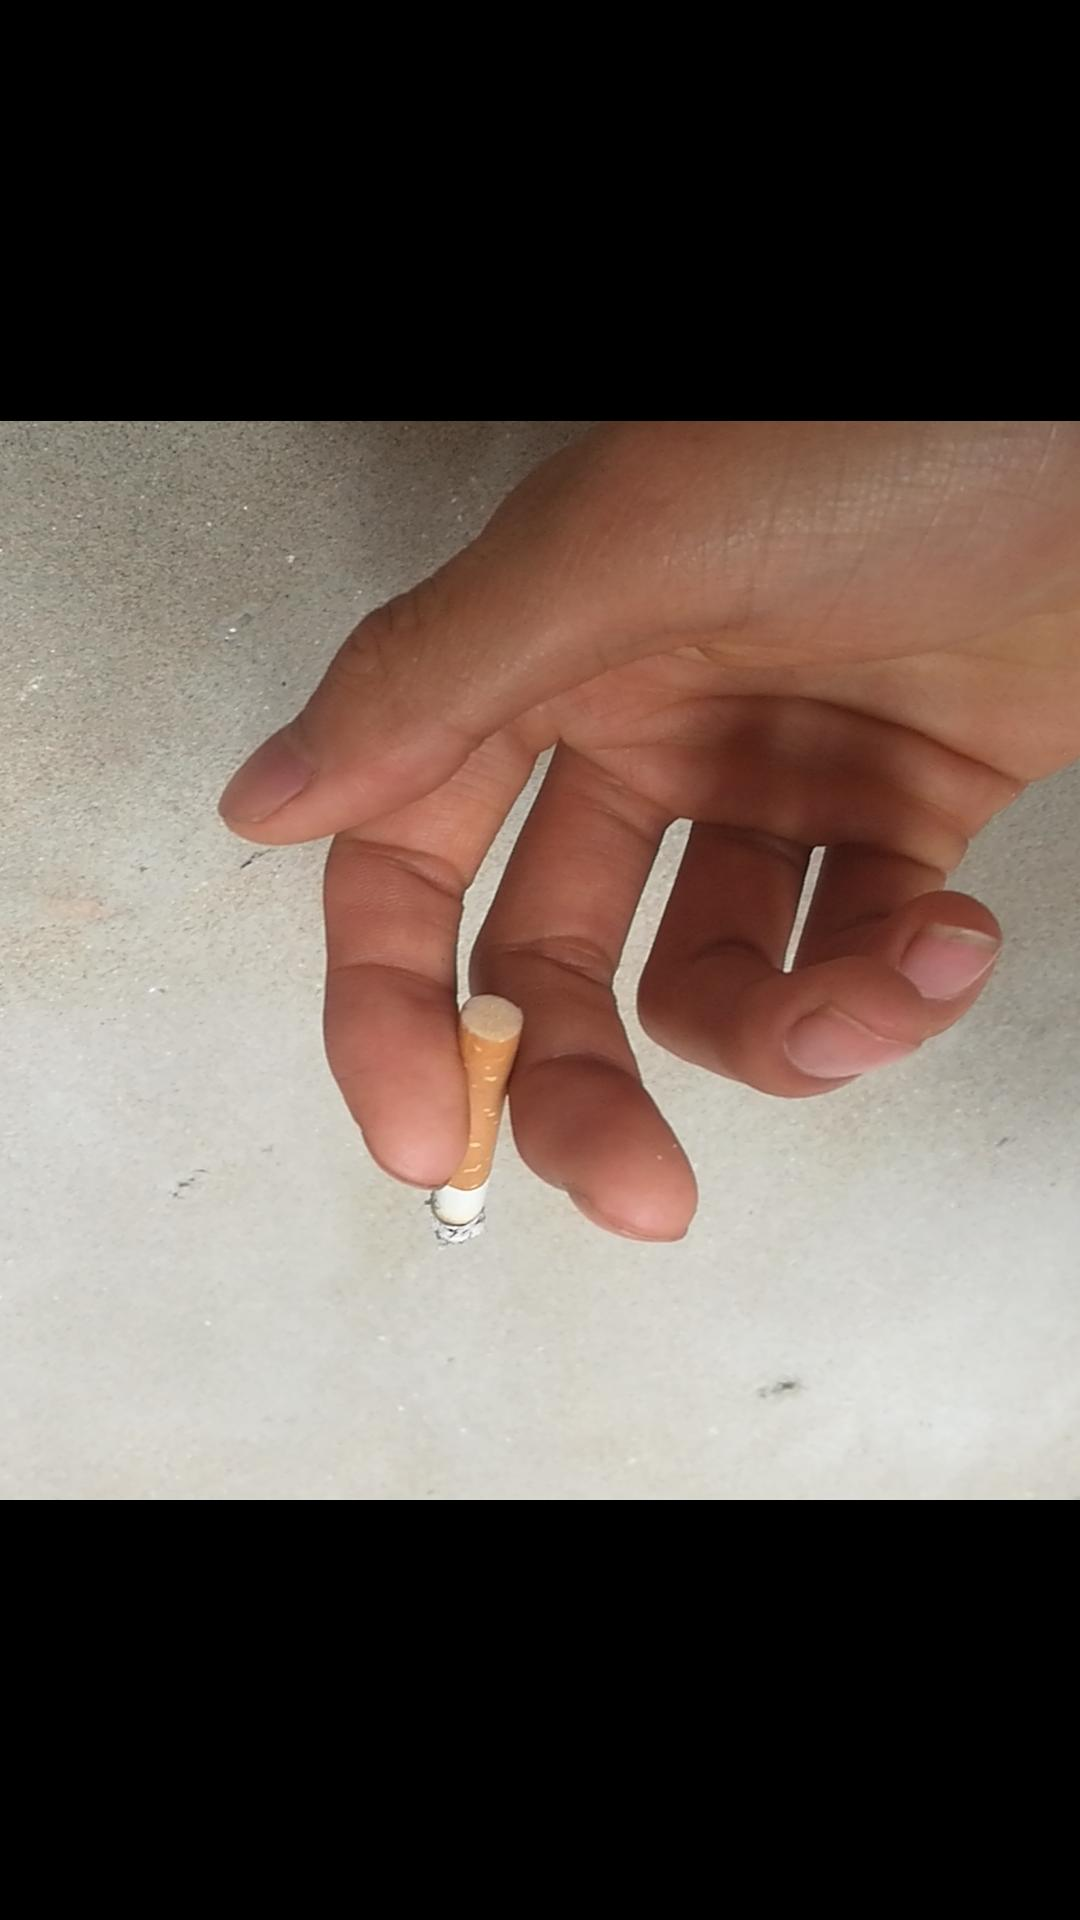Cigarette: (426, 1001, 525, 1247)
